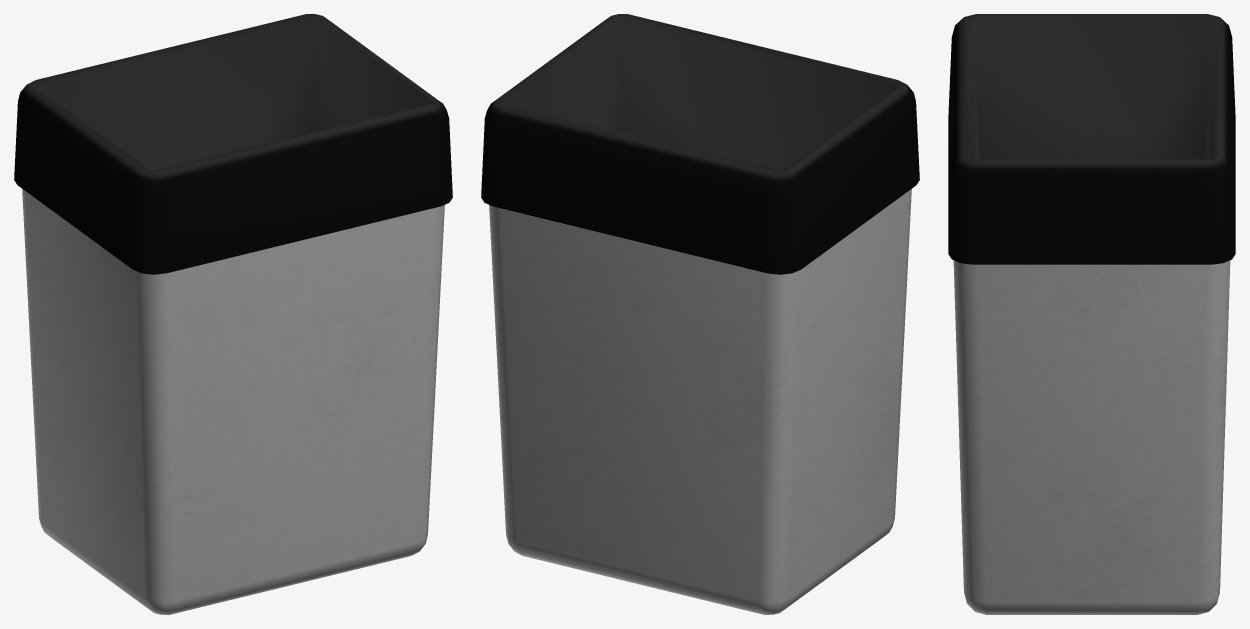
Rendered from TrashCan01.FBX.
3 views of the same model, side by side, from view 1: azimuth 30°, elevation 25°; view 2: azimuth 150°, elevation 25°; view 3: azimuth 270°, elevation 25° (orthographic). The views are drawn at different scales.
Visible parts, largest first — view 1: TrashCan01; view 2: TrashCan01; view 3: TrashCan01.
Boxes of the visible parts, x1,y1,x2,y2 form: TrashCan01: [14, 14, 452, 614]; TrashCan01: [481, 14, 919, 614]; TrashCan01: [948, 14, 1235, 614].
Bounding box in the file's own units: 35.07 × 48 × 26.84.
